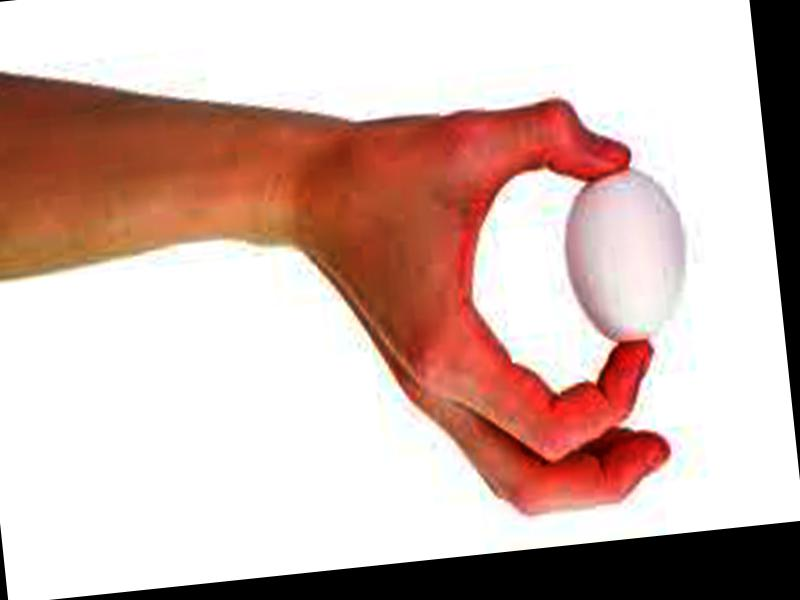Eggs: (557, 164, 695, 349)
